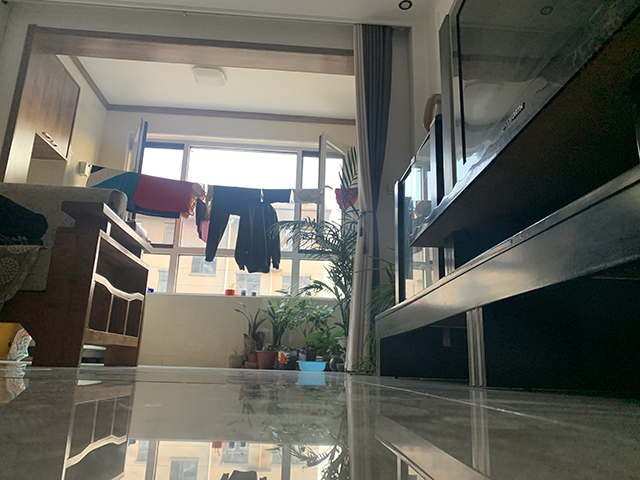cabinet: (372, 1, 640, 386)
curtain: (343, 22, 395, 376)
sofa: (1, 181, 153, 369)
